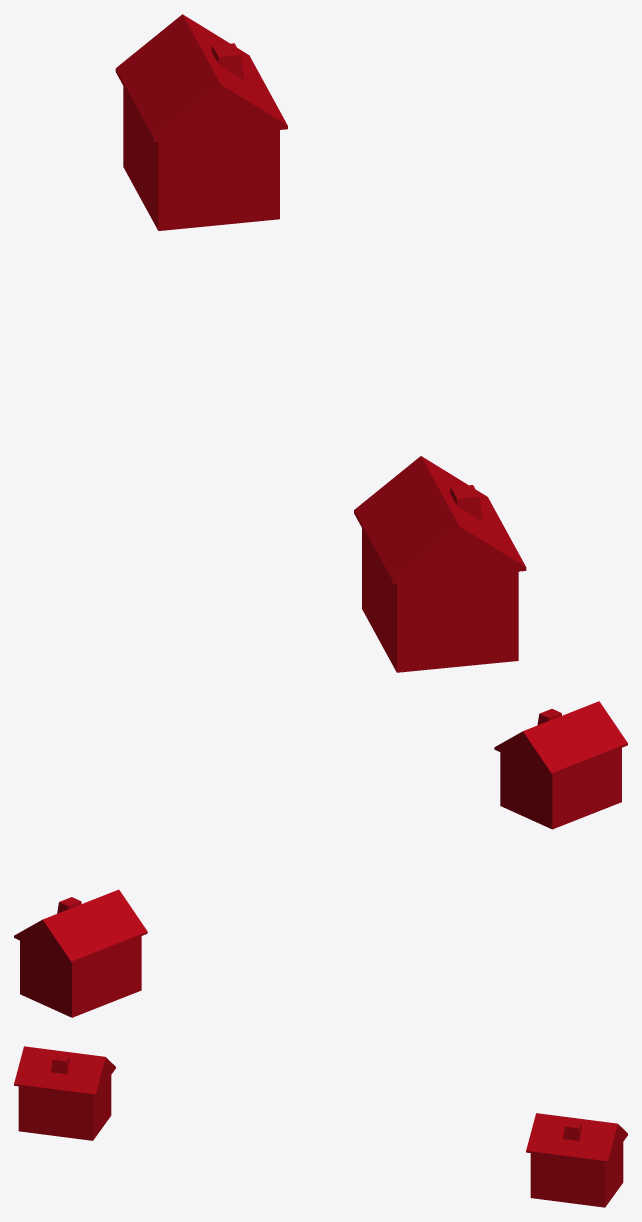
File: hotel_set.obj
3 views of the same model, one above another, from view 1: azimuth 30°, elevation 25°; view 2: azimuth 150°, elevation 25°; view 3: azimuth 270°, elevation 25° (orthographic). The views are drawn at different scales.
Parts seen in each view (by area): view 1: Cube.002, Cube.001; view 2: Cube.001, Cube.002; view 3: Cube.002, Cube.001.
Boxes of the visible parts, <box> form: Cube.002: <box>354,456,526,672</box>; Cube.001: <box>115,14,287,230</box>; Cube.001: <box>14,889,147,1017</box>; Cube.002: <box>494,701,627,829</box>; Cube.002: <box>14,1046,115,1140</box>; Cube.001: <box>526,1113,627,1207</box>.
Bounding box in the file's own units: 0.0637 × 0.0203 × 0.1573.
Materials: 2 (2 with a texture image).
